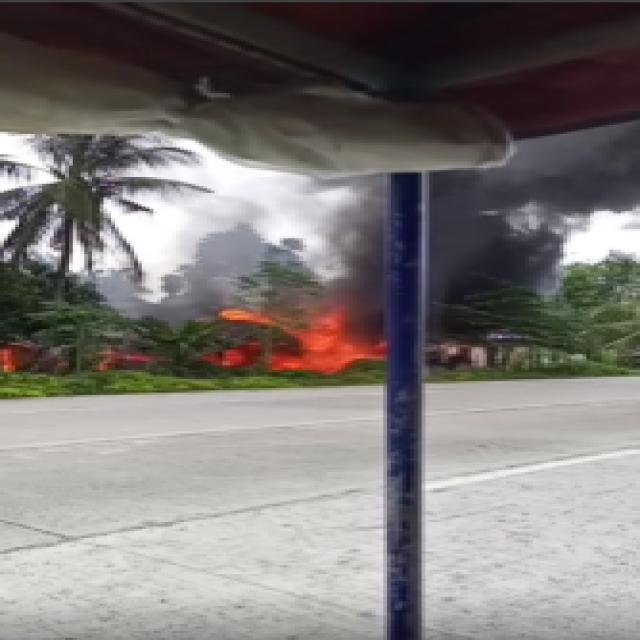Fire: (230, 304, 383, 374)
Smoke: (177, 180, 393, 348), (431, 177, 568, 338), (520, 140, 640, 247)
